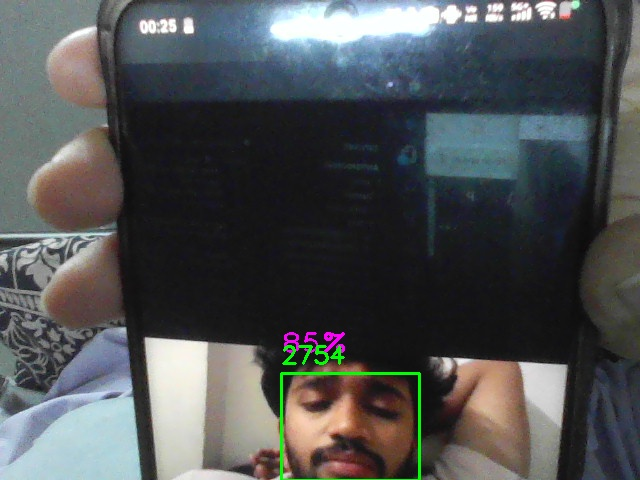fake: (281, 373, 420, 480)
